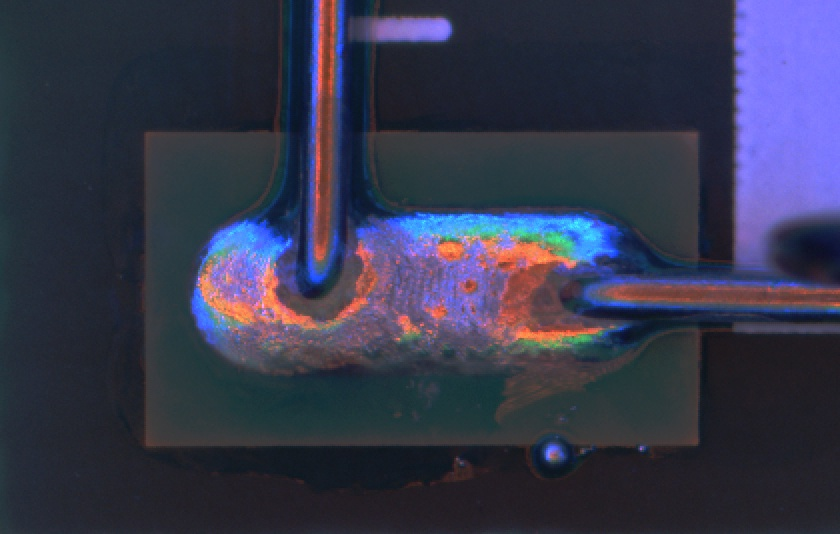spring: (283, 1, 362, 300), (556, 264, 840, 336)
spring_pin: (191, 213, 660, 361)
